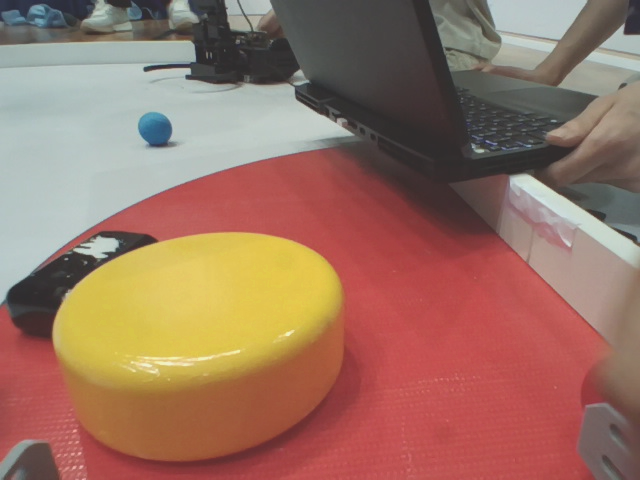black: (6, 217, 160, 338)
blue: (132, 104, 196, 158)
yellow: (61, 229, 364, 466)
